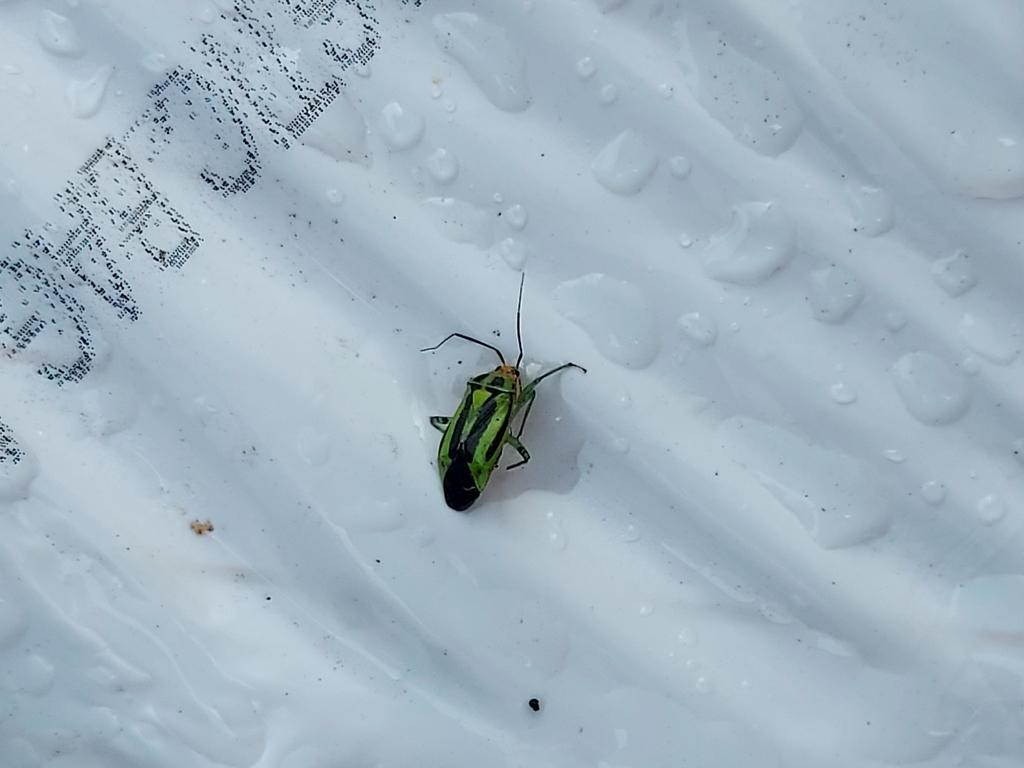plant_bugs: (388, 246, 607, 539)
